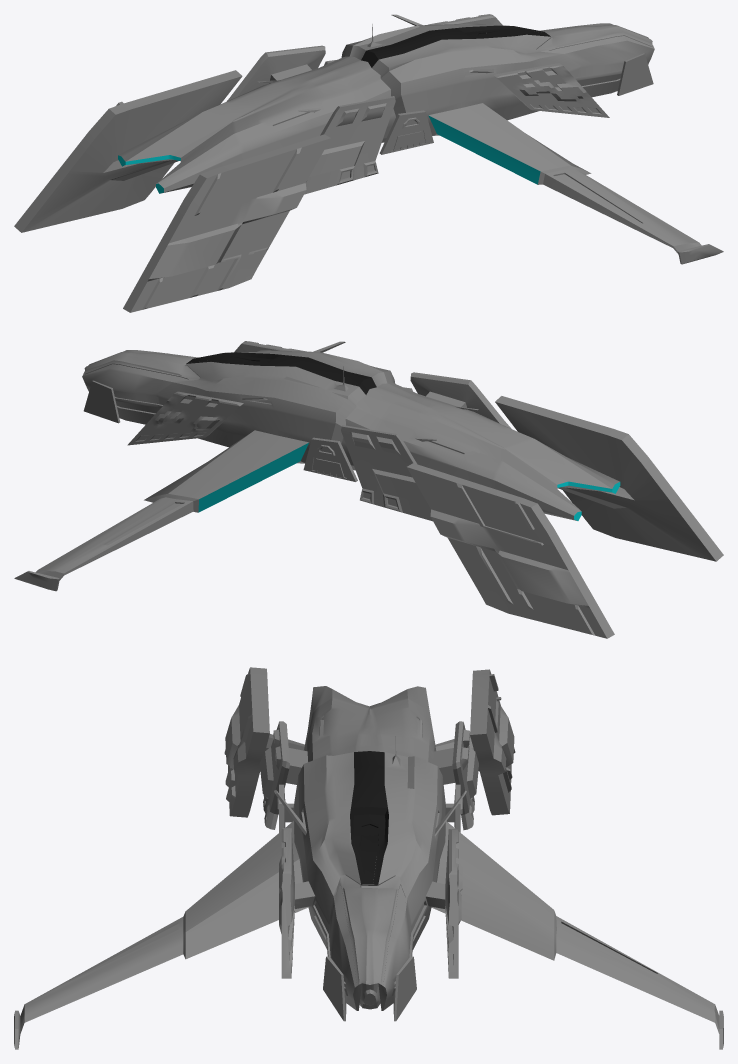
File: Spaceship.fbx
3 renders of one model, top to bottom at view 1: azimuth 30°, elevation 25°; view 2: azimuth 150°, elevation 25°; view 3: azimuth 270°, elevation 25°, orthographic. The views are drawn at different scales.
Visible parts, largest first — view 1: spaceship; view 2: spaceship; view 3: spaceship.
Boxes of the visible parts, x1,y1,x2,y2 form: spaceship: [14, 14, 723, 312]; spaceship: [14, 341, 723, 638]; spaceship: [14, 667, 723, 1049].
Bounding box in the file's own units: 900 × 249 × 779.
